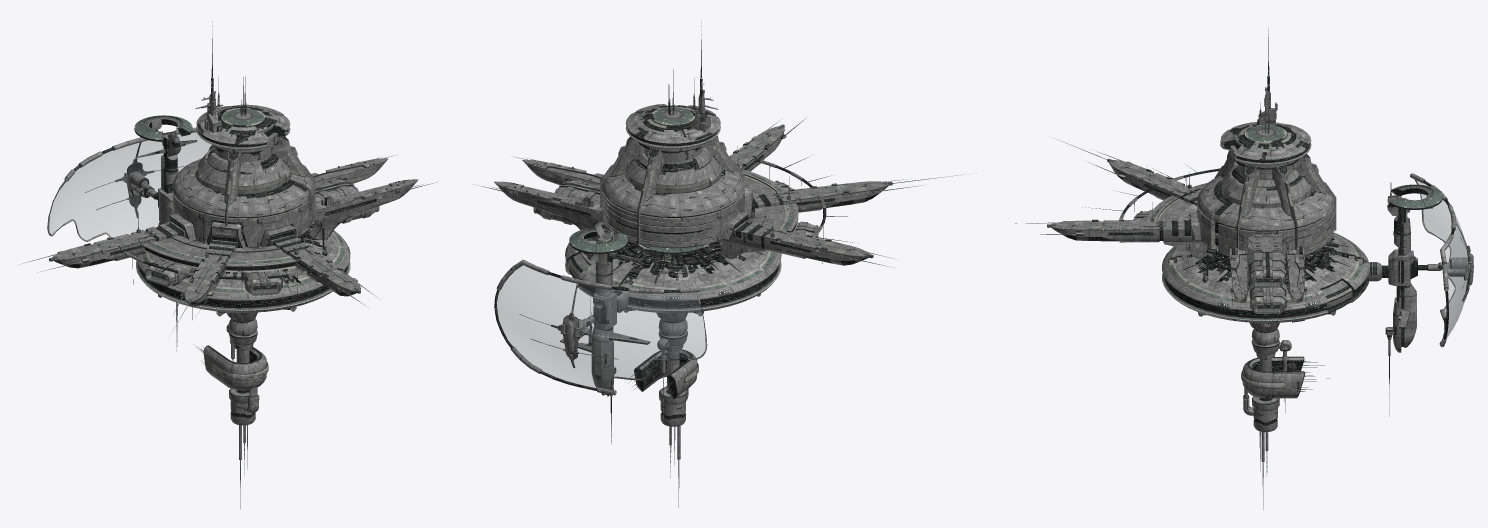
File: 3868_lite.glb
3 renders of one model, left to right at view 1: azimuth 30°, elevation 25°; view 2: azimuth 150°, elevation 25°; view 3: azimuth 270°, elevation 25°, orthographic. The views are drawn at different scales.
Visible parts, largest first — view 1: GSShape6, GSShape6.001; view 2: GSShape6, GSShape6.001; view 3: GSShape6, GSShape6.001.
Boxes of the visible parts, x1,y1,x2,y2 form: GSShape6: (23, 21, 436, 509); GSShape6.001: (49, 132, 211, 239); GSShape6: (475, 19, 976, 507); GSShape6.001: (496, 265, 705, 390); GSShape6: (1015, 27, 1473, 510); GSShape6.001: (1417, 181, 1468, 337).
Bounding box in the file's own units: 42.31 × 49.89 × 42.78.
2 materials, 1 textured.
